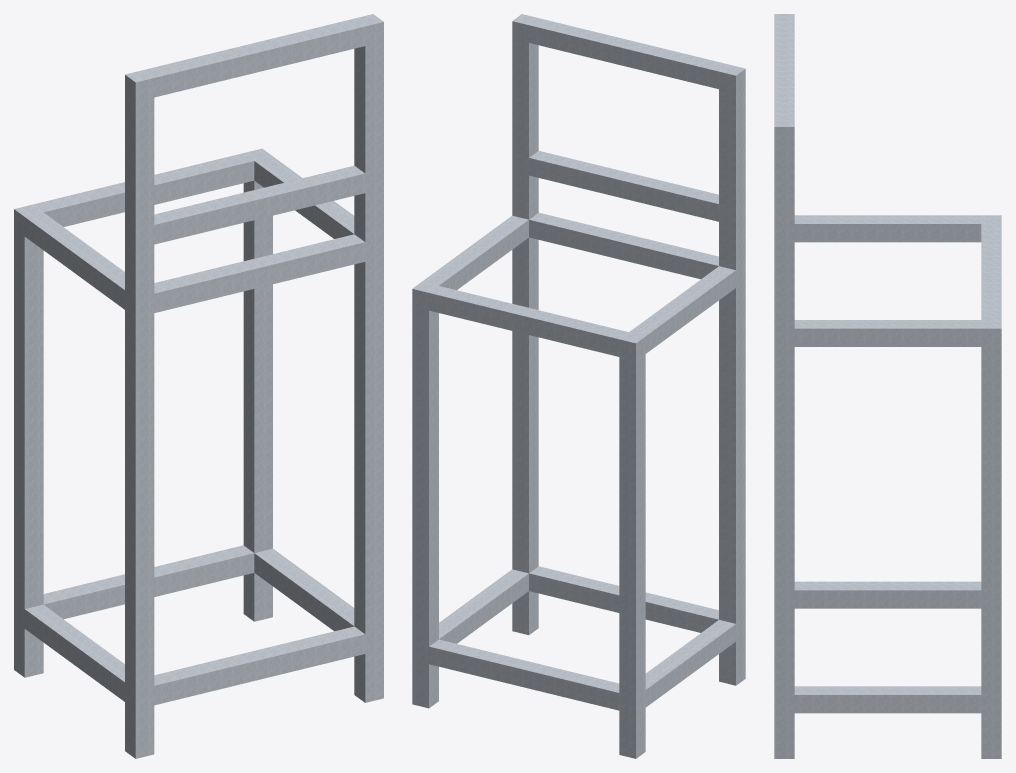
Rendered from stage4_3.gltf.
3 renders of one model, left to right at view 1: azimuth 30°, elevation 25°; view 2: azimuth 150°, elevation 25°; view 3: azimuth 270°, elevation 25°, orthographic. The views are drawn at different scales.
Bounding box in the file's own units: 0.53 × 1.38 × 0.45.
1 material, 1 textured.
